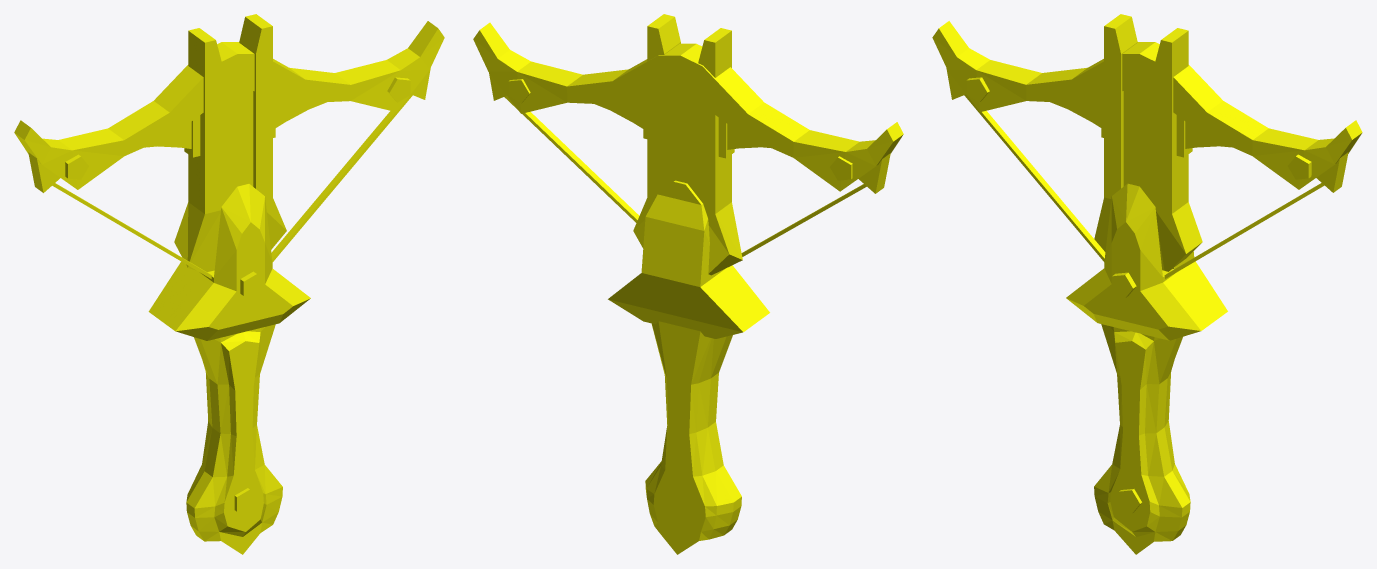
File: _crossbow_22.glb
3 views of the same model, side by side, from view 1: azimuth 30°, elevation 25°; view 2: azimuth 150°, elevation 25°; view 3: azimuth 330°, elevation 25° (orthographic).
Parts seen in each view (by area): view 1: crossbow_22; view 2: crossbow_22; view 3: crossbow_22.
Boxes of the visible parts, x1,y1,x2,y2 form: crossbow_22: (14, 14, 444, 554); crossbow_22: (473, 14, 903, 554); crossbow_22: (932, 14, 1362, 554).
Bounding box in the file's own units: 19122 × 22549 × 3358.
